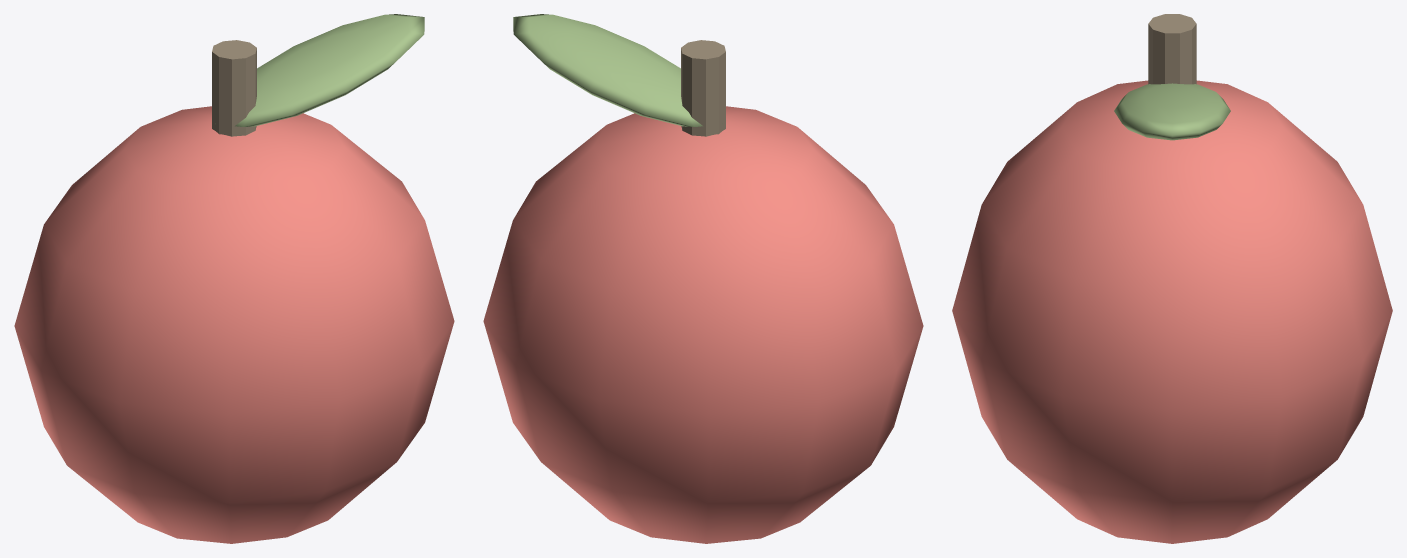
File: food-park.glb
The picture shows the model from 3 angles, left to right: view 1: azimuth 30°, elevation 25°; view 2: azimuth 150°, elevation 25°; view 3: azimuth 270°, elevation 25°; orthographic projection. The views are drawn at different scales.
Parts seen in each view (by area): view 1: Red apple, Apple leaf, Apple stem; view 2: Red apple, Apple leaf, Apple stem; view 3: Red apple, Apple leaf, Apple stem.
Boxes of the visible parts, bbox=[...] form: Red apple: bbox=[14, 106, 454, 543]; Apple leaf: bbox=[215, 14, 424, 126]; Apple stem: bbox=[212, 40, 256, 136]; Red apple: bbox=[483, 106, 923, 543]; Apple leaf: bbox=[513, 14, 722, 126]; Apple stem: bbox=[681, 40, 725, 136]; Red apple: bbox=[952, 80, 1392, 543]; Apple leaf: bbox=[1114, 83, 1230, 140]; Apple stem: bbox=[1148, 14, 1196, 84].
Size of the model in its own units: 0.68 by 0.8 by 0.64.
